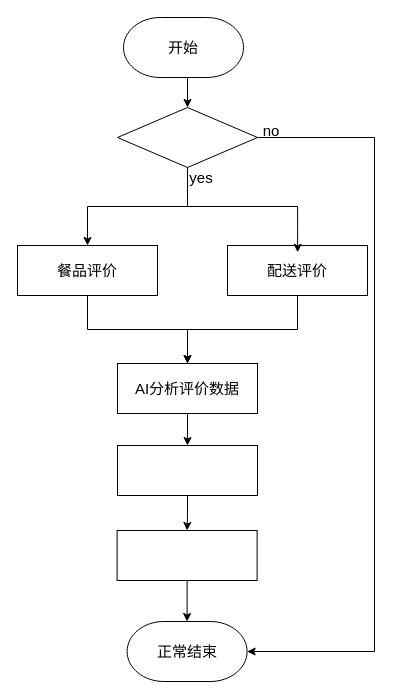
Some shapes in this 400 by 699 pixel diagram are drawn without their labels. The box of each missing label's shape, as (x1, y1, x2, y2) in pixels:
商家(即管理员端)进行改进: (116, 530, 257, 580)
生成改进建议: (116, 444, 258, 496)
评价: (116, 106, 258, 168)
